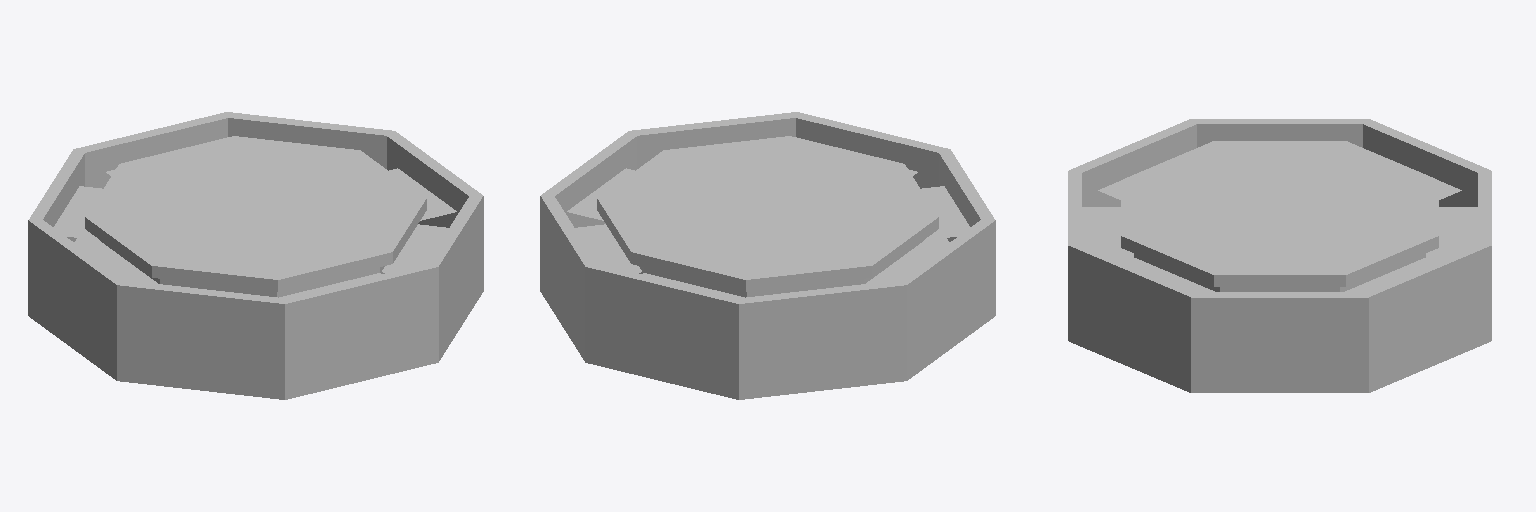
File: fraction_spacer.obj
The picture shows the model from 3 angles: view 1: azimuth 30°, elevation 25°; view 2: azimuth 150°, elevation 25°; view 3: azimuth 270°, elevation 25°; orthographic projection.
Visible parts, largest first — view 1: Plane; view 2: Plane; view 3: Plane.
Boxes of the visible parts, <box> form: Plane: <box>28,112,483,399</box>; Plane: <box>540,112,995,399</box>; Plane: <box>1068,119,1491,392</box>.
Bounding box in the file's own units: 4 × 1 × 4.